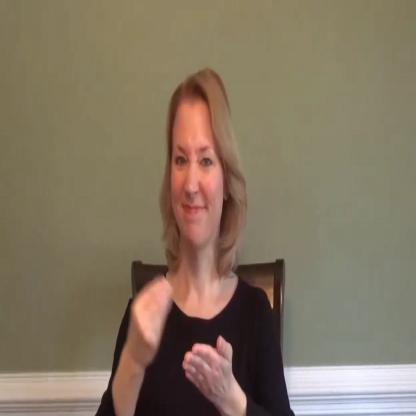Expensive: (112, 260, 234, 416)
